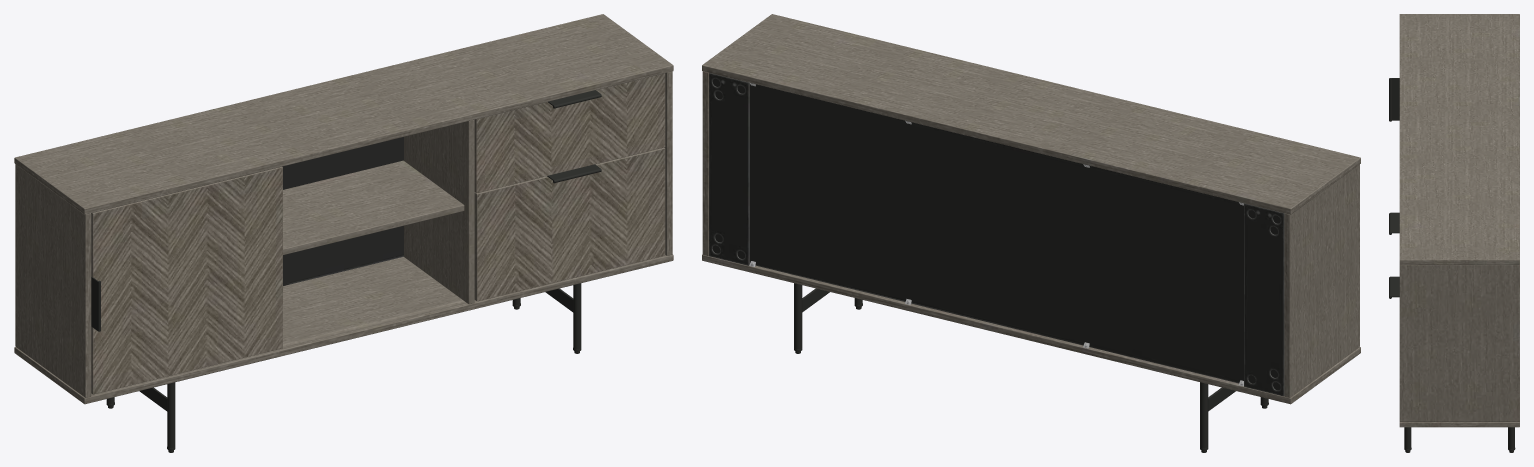
Rendered from abo-B07QB8DQ45.glb.
The picture shows the model from 3 angles, left to right: view 1: azimuth 30°, elevation 25°; view 2: azimuth 150°, elevation 25°; view 3: azimuth 270°, elevation 25°; orthographic projection. The views are drawn at different scales.
Size of the model in its own units: 1.8 by 0.787 by 0.405.
Materials: 1 (1 with a texture image).
